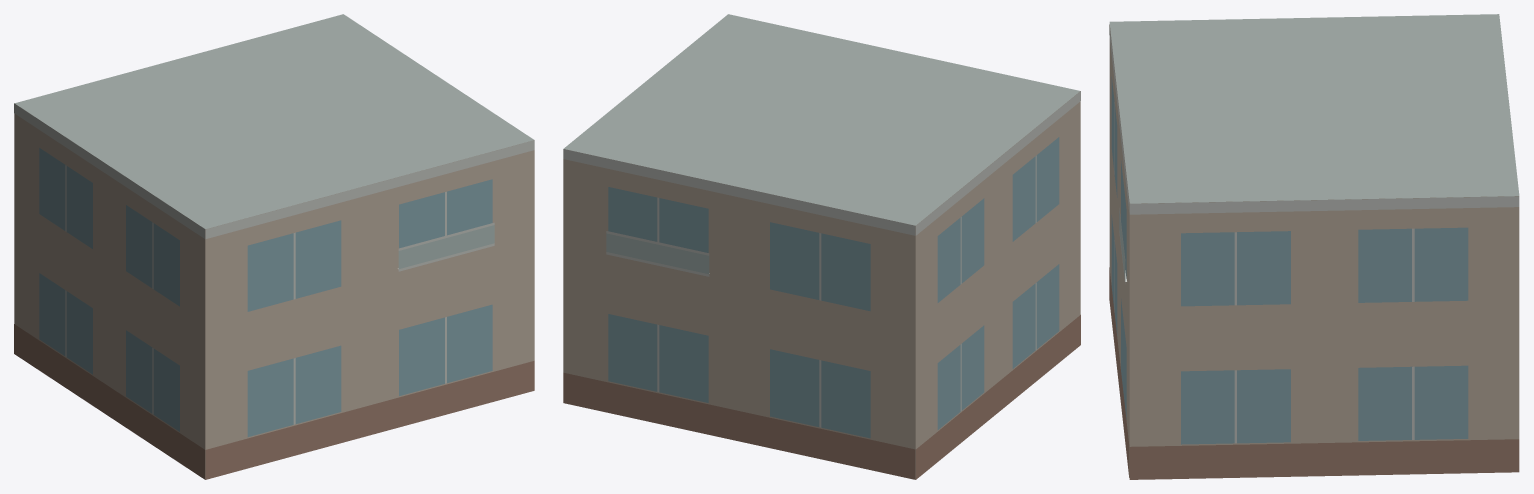
The model's file is survey-upis-32807277.glb.
3 renders of one model, left to right at view 1: azimuth 30°, elevation 25°; view 2: azimuth 150°, elevation 25°; view 3: azimuth 270°, elevation 25°, orthographic. The views are drawn at different scales.
Visible parts, largest first — view 1: survey-upis-32807277.tmp; view 2: survey-upis-32807277.tmp; view 3: survey-upis-32807277.tmp.
Boxes of the visible parts, x1,y1,x2,y2 form: survey-upis-32807277.tmp: (14,14,534,479); survey-upis-32807277.tmp: (563,14,1080,479); survey-upis-32807277.tmp: (1109,14,1519,479).
Size of the model in its own units: 8.99 by 6.1 by 8.22.
